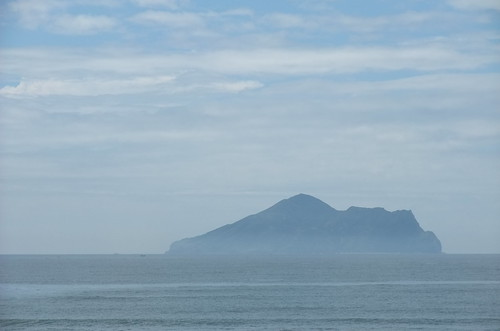turtleIsland: (164, 191, 443, 257)
